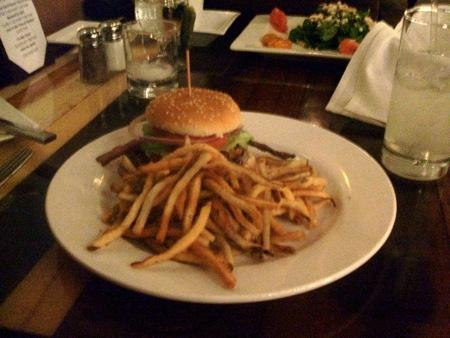lettuce: (140, 122, 254, 157), (321, 20, 338, 42)
